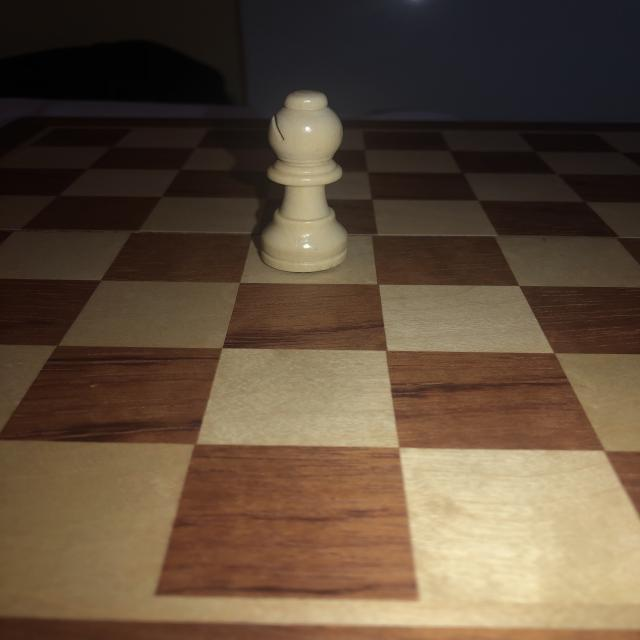white_bishop: (257, 86, 345, 274)
